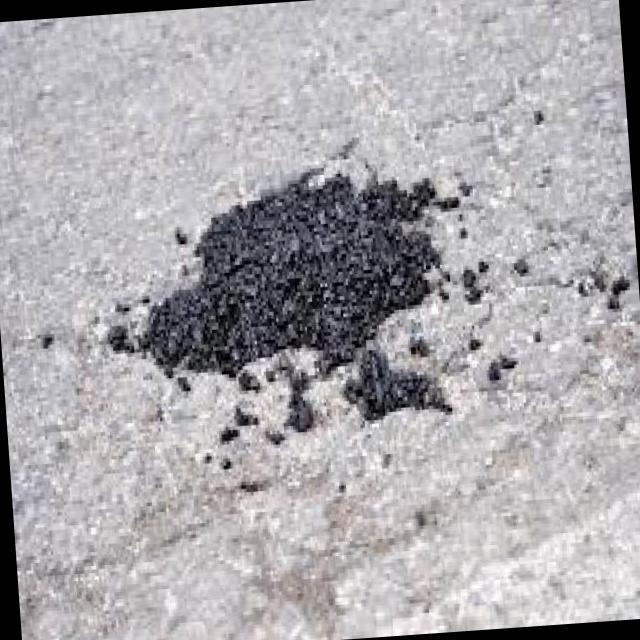Pothole: (105, 172, 456, 432)
